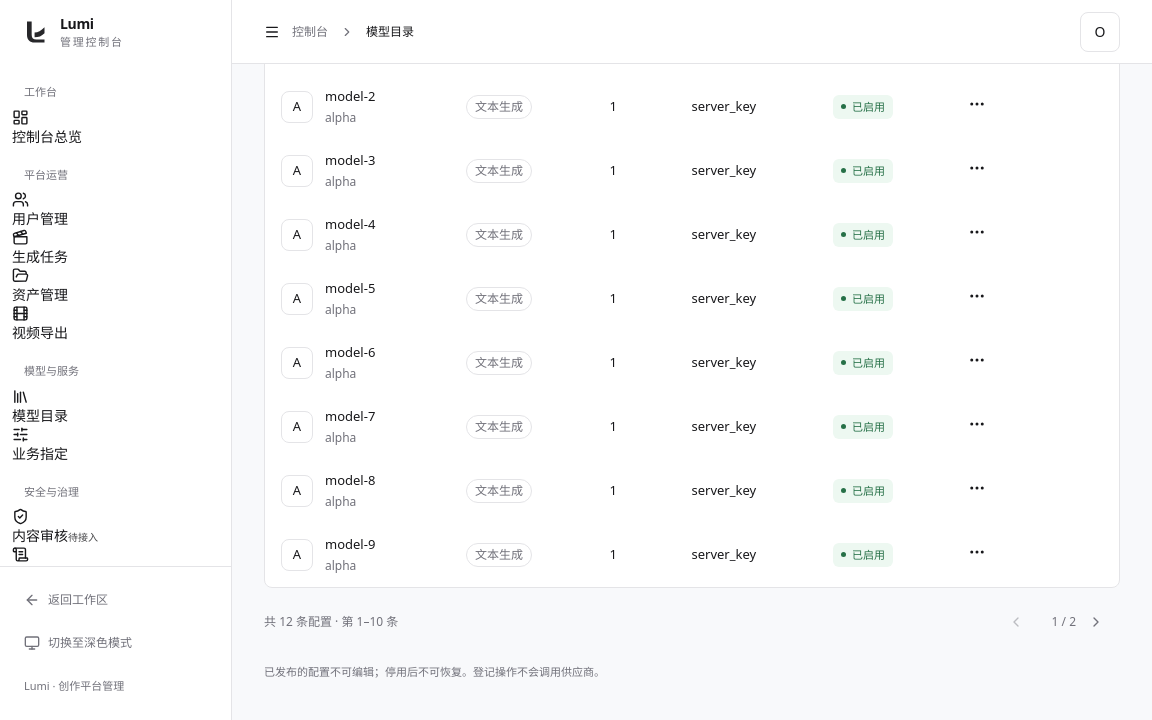
it: model admin page › paginates and combines real provider and status filters
(page scrolled)
Step 1. Click the button named "下一页" → [1104, 622], box [1088,604,1120,640]
(page scrolled)
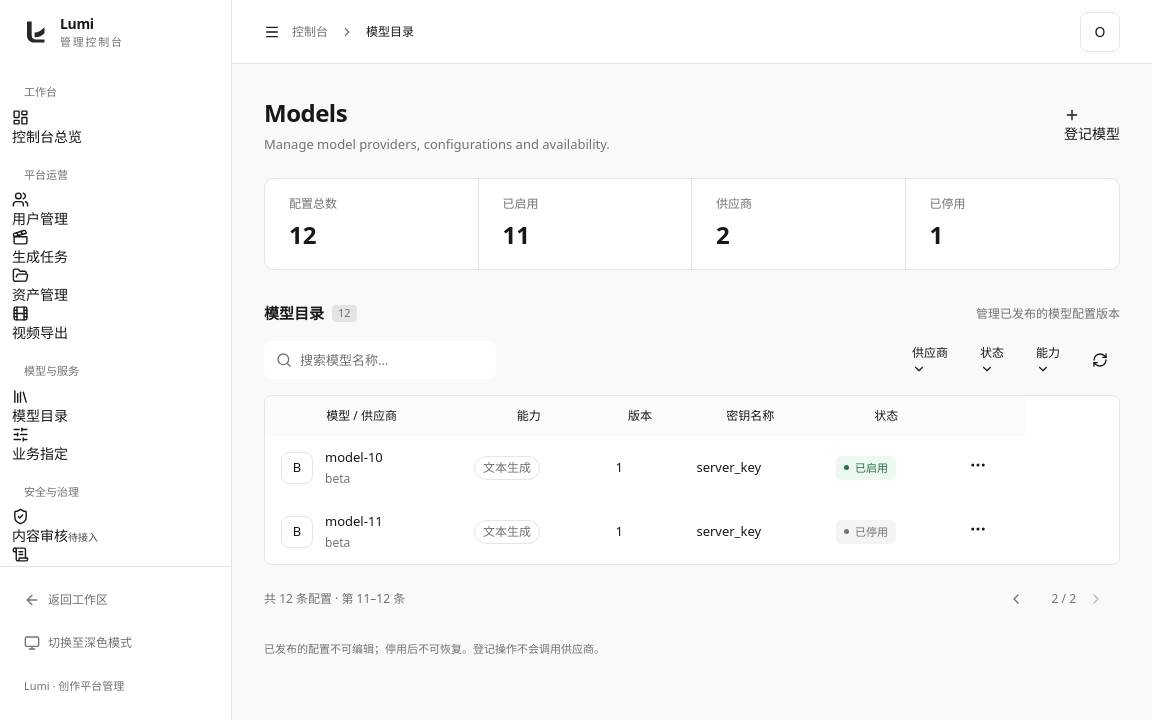
Result: the number of rows is 3 at [265,396,1025,436]; [265,436,1025,500]; [265,500,1025,564]
Step 2. Click the button with aria-label "供应商筛选" → [930, 360], box [900,342,960,378]
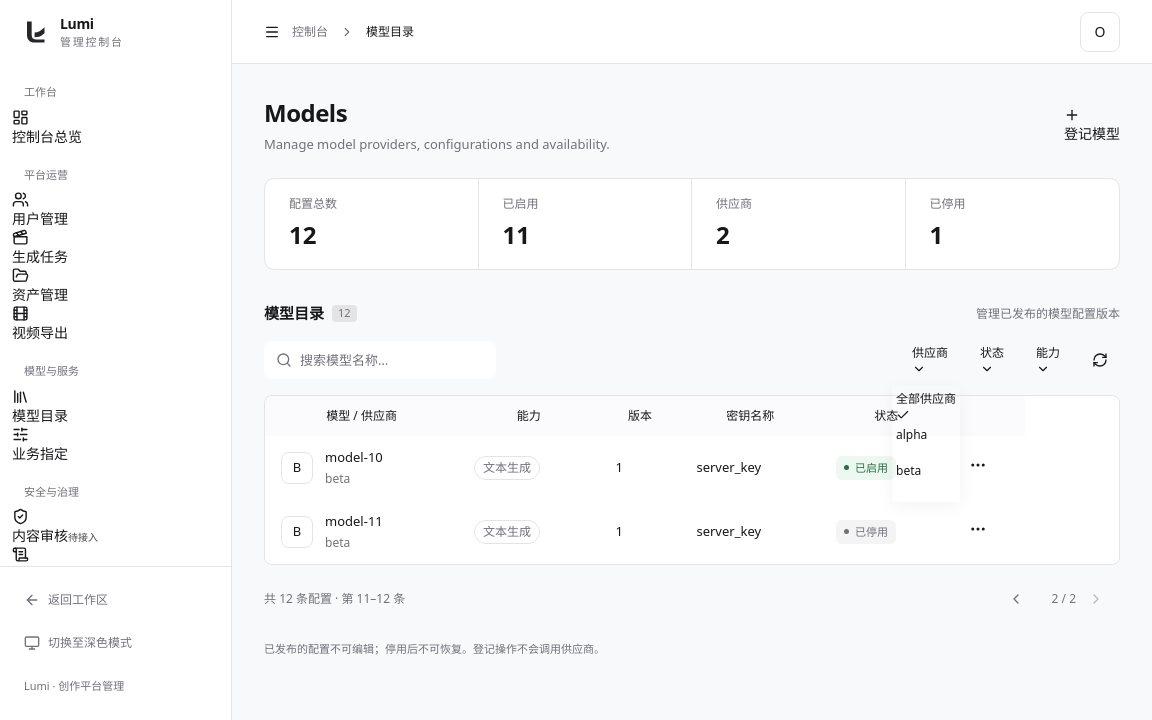
Step 3. Click the menu item "beta" → [909, 470], box [896,462,921,479]
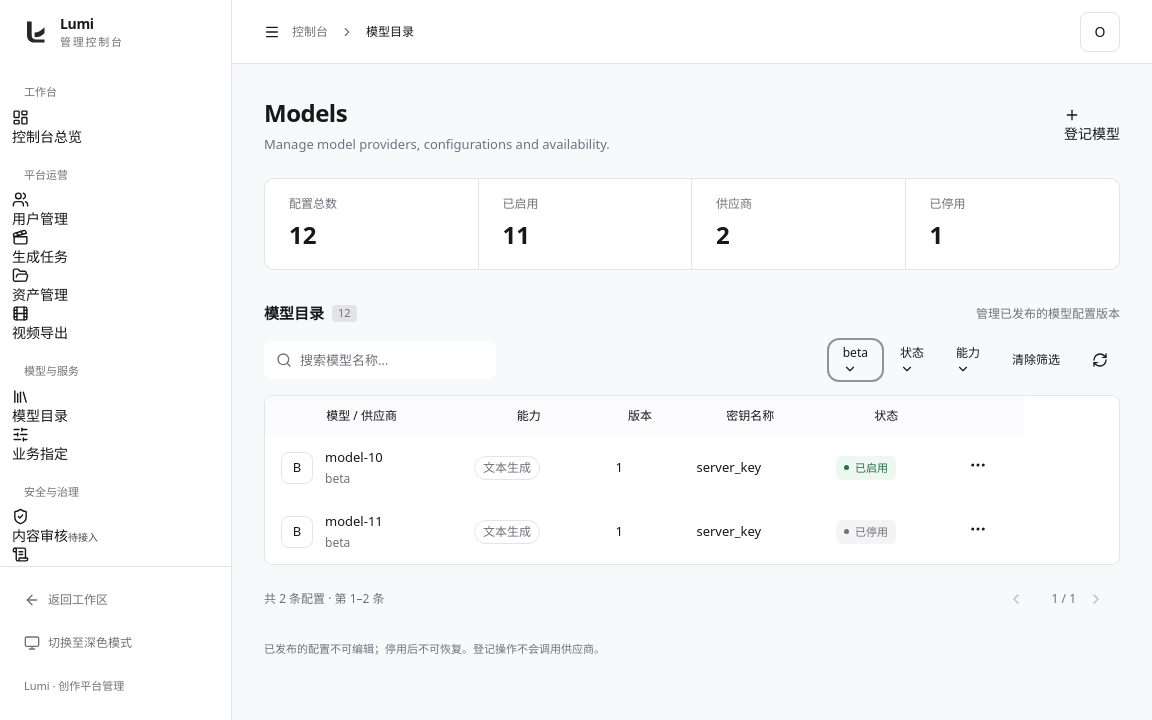
Step 4. Click the button with aria-label "状态筛选" → [912, 360], box [888,342,936,378]
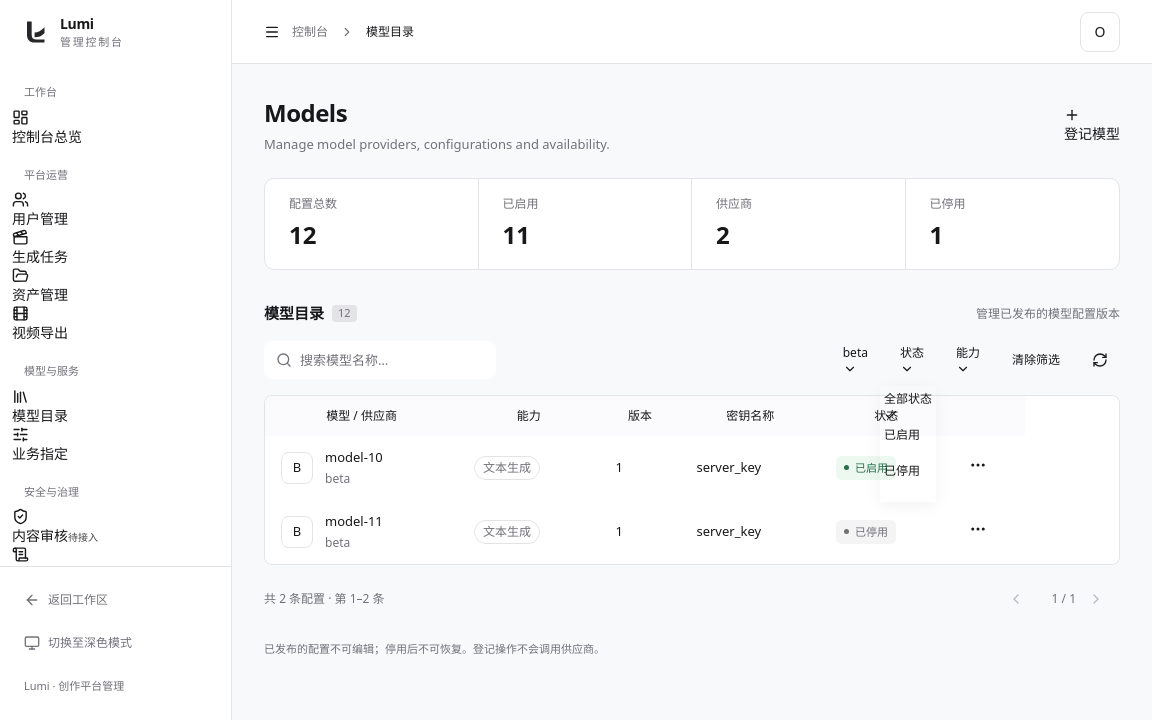
Step 5. Click the menu item "已停用" → [902, 470], box [884,462,920,479]
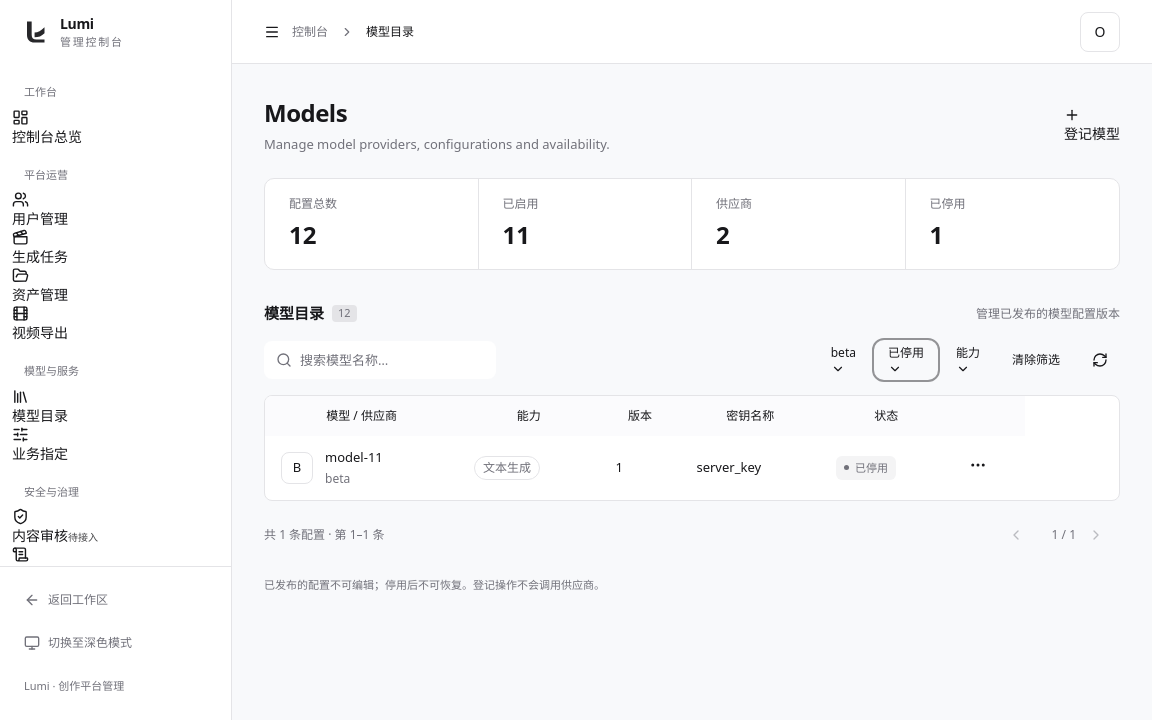
Result: the text "model-11" is shown at [325,448,383,468]
Result: the text "model-10" is gone
Step 6. Click the button "清除筛选" → [1036, 360], box [1000,342,1072,378]
(page scrolled)
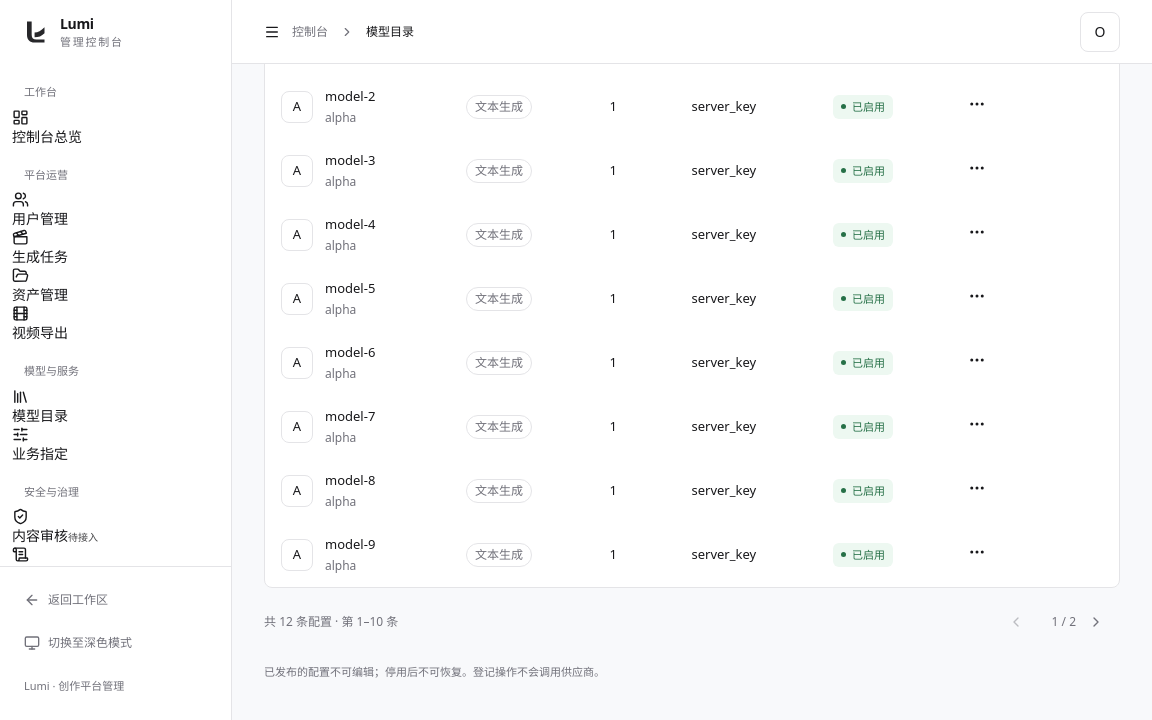
Expected: the button named "上一页" is disabled, [1008,604,1040,640]
Result: the number of rows is 11
